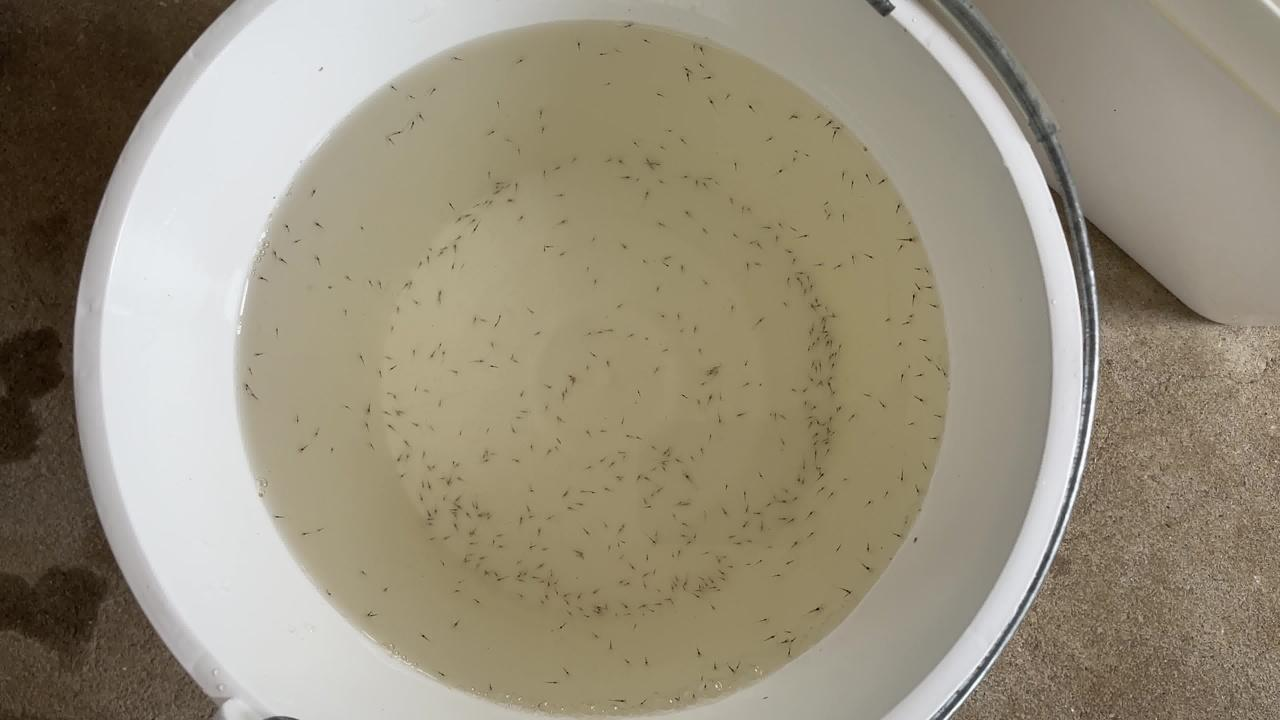shrimp: (809, 368, 822, 376), (824, 373, 837, 381), (815, 378, 828, 386), (811, 445, 824, 453), (772, 412, 785, 420), (915, 490, 928, 498), (800, 234, 813, 242), (745, 207, 758, 215), (725, 196, 738, 204), (690, 179, 703, 187), (640, 190, 653, 198), (621, 174, 634, 182), (652, 90, 665, 98), (709, 362, 722, 370), (708, 395, 721, 403), (704, 395, 717, 403), (713, 395, 726, 403), (714, 418, 727, 426), (704, 434, 717, 442), (652, 367, 665, 375), (556, 218, 569, 226), (515, 57, 528, 65), (513, 146, 526, 154), (462, 213, 475, 221), (411, 262, 424, 270), (431, 295, 444, 303), (487, 362, 500, 370), (484, 340, 497, 348), (563, 384, 576, 392), (383, 135, 396, 143), (392, 412, 405, 420), (521, 406, 534, 414), (507, 428, 520, 436), (393, 473, 406, 481), (631, 473, 644, 481), (616, 451, 629, 459), (596, 456, 609, 464), (774, 501, 787, 509), (765, 500, 778, 508), (736, 522, 749, 530), (744, 561, 757, 569), (761, 617, 774, 625), (670, 600, 683, 608), (595, 600, 608, 608), (642, 661, 655, 669), (731, 666, 744, 674), (560, 595, 573, 603), (448, 622, 461, 630), (438, 672, 451, 680), (450, 589, 463, 597), (452, 578, 465, 586), (434, 562, 447, 570), (423, 511, 436, 519), (463, 528, 476, 536), (462, 512, 475, 520), (442, 534, 455, 542), (586, 490, 599, 498), (576, 500, 589, 508), (521, 573, 534, 581), (361, 611, 374, 619), (361, 611, 374, 619), (380, 584, 393, 592), (270, 512, 283, 520), (238, 379, 251, 387), (242, 367, 255, 375), (340, 306, 353, 314), (598, 429, 611, 437), (682, 66, 694, 74), (682, 73, 694, 81), (698, 48, 710, 56), (686, 41, 698, 49), (699, 61, 711, 69), (703, 75, 715, 83), (704, 99, 716, 107), (722, 93, 734, 101), (747, 104, 759, 112), (783, 115, 795, 123), (788, 115, 800, 123), (810, 112, 822, 120), (826, 117, 838, 125), (834, 123, 846, 131), (828, 128, 840, 136), (859, 173, 871, 181), (879, 178, 891, 186), (849, 179, 861, 187), (838, 169, 850, 177), (773, 168, 785, 176), (762, 134, 774, 142), (787, 160, 799, 168), (803, 153, 815, 161), (790, 146, 802, 154), (822, 198, 834, 206), (816, 209, 828, 217), (823, 209, 835, 217), (836, 211, 848, 219), (893, 203, 905, 211), (909, 237, 921, 245), (897, 242, 909, 250), (913, 268, 925, 276), (922, 269, 934, 277), (912, 286, 924, 294), (927, 283, 939, 291), (907, 294, 919, 302), (932, 303, 944, 311), (907, 311, 919, 319), (903, 319, 915, 327), (882, 318, 894, 326), (895, 340, 907, 348), (923, 337, 935, 345), (925, 355, 937, 363), (932, 367, 944, 375), (942, 374, 954, 382), (915, 374, 927, 382), (897, 371, 909, 379), (919, 398, 931, 406), (936, 413, 948, 421), (932, 435, 944, 443), (911, 418, 923, 426), (878, 403, 890, 411), (865, 393, 877, 401), (866, 255, 878, 263), (850, 252, 862, 260), (832, 263, 844, 271), (795, 268, 807, 276), (801, 276, 813, 284), (793, 277, 805, 285), (809, 284, 821, 292), (798, 290, 810, 298), (783, 277, 795, 285), (811, 295, 823, 303), (813, 301, 825, 309), (806, 303, 818, 311), (829, 314, 841, 322), (830, 314, 842, 322), (817, 313, 829, 321), (820, 323, 832, 331), (828, 340, 840, 348), (684, 207, 696, 215), (629, 141, 641, 149), (695, 345, 707, 353), (651, 285, 663, 293), (779, 439, 791, 447), (490, 185, 502, 193), (418, 113, 430, 121), (418, 451, 430, 459), (424, 467, 436, 475), (540, 450, 552, 458), (679, 500, 691, 508), (718, 578, 730, 586), (779, 639, 791, 647), (651, 573, 663, 581), (640, 583, 652, 591), (623, 661, 635, 669), (562, 672, 574, 680), (590, 634, 602, 642), (613, 578, 625, 586), (540, 595, 552, 603), (529, 573, 541, 581), (480, 556, 492, 564), (424, 517, 436, 525), (313, 429, 325, 437), (269, 251, 281, 259), (810, 326, 823, 333), (803, 329, 816, 336), (819, 340, 832, 347), (822, 334, 835, 341), (812, 335, 825, 342), (806, 340, 819, 347), (806, 344, 819, 351), (804, 359, 817, 366), (815, 361, 828, 368), (821, 353, 834, 360), (827, 352, 840, 359), (824, 384, 837, 391), (836, 406, 849, 413), (802, 388, 815, 395), (807, 405, 820, 412), (801, 413, 814, 420), (813, 419, 826, 426), (804, 422, 817, 429), (821, 425, 834, 432), (823, 427, 836, 434), (822, 436, 835, 443), (822, 441, 835, 448), (848, 414, 861, 421), (812, 465, 825, 472), (816, 470, 829, 477), (753, 318, 766, 325), (781, 415, 794, 422), (797, 465, 810, 472), (791, 476, 804, 483), (800, 481, 813, 488), (815, 488, 828, 495), (826, 492, 839, 499), (739, 362, 752, 369), (921, 465, 934, 472), (895, 477, 908, 484), (881, 494, 894, 501), (866, 500, 879, 507), (894, 533, 907, 540), (897, 522, 910, 529), (786, 228, 799, 235), (776, 222, 789, 229), (758, 225, 771, 232), (770, 237, 783, 244), (784, 251, 797, 258), (754, 242, 767, 249), (746, 240, 759, 247), (753, 262, 766, 269), (743, 261, 756, 268), (738, 204, 751, 211), (729, 161, 742, 168), (704, 175, 717, 182), (699, 182, 712, 189), (651, 161, 664, 168), (641, 161, 654, 168), (699, 228, 712, 235), (655, 219, 668, 226), (677, 139, 690, 146), (664, 125, 677, 132), (603, 157, 616, 164), (611, 158, 624, 165), (627, 24, 640, 31), (593, 52, 606, 59), (604, 79, 617, 86), (730, 232, 743, 239), (655, 179, 668, 186), (728, 303, 741, 310), (664, 252, 677, 259), (661, 264, 674, 271), (674, 264, 687, 271), (690, 324, 703, 331), (672, 311, 685, 318), (699, 281, 712, 288), (704, 371, 717, 378), (710, 371, 723, 378), (696, 380, 709, 387), (677, 394, 690, 401), (733, 412, 746, 419), (692, 400, 705, 407), (659, 347, 672, 354), (619, 245, 632, 252), (615, 301, 628, 308), (590, 279, 603, 286), (584, 266, 597, 273), (558, 252, 571, 259), (545, 242, 558, 249), (556, 192, 569, 199), (570, 153, 583, 160), (549, 166, 562, 173), (539, 170, 552, 177), (537, 126, 550, 133), (494, 102, 507, 109), (489, 129, 502, 136), (492, 179, 505, 186), (511, 181, 524, 188), (504, 195, 517, 202), (515, 216, 528, 223), (487, 201, 500, 208), (480, 197, 493, 204), (473, 201, 486, 208), (467, 220, 480, 227), (452, 218, 465, 225), (452, 234, 465, 241), (451, 242, 464, 249), (446, 264, 459, 271), (441, 242, 454, 249), (436, 250, 449, 257), (422, 257, 435, 264), (398, 281, 411, 288), (403, 281, 416, 288), (411, 301, 424, 308), (390, 310, 403, 317), (388, 326, 401, 333), (380, 353, 393, 360), (384, 366, 397, 373), (411, 348, 424, 355), (425, 354, 438, 361), (438, 350, 451, 357), (476, 358, 489, 365), (466, 317, 479, 324), (492, 322, 505, 329), (505, 352, 518, 359), (508, 359, 521, 366), (526, 310, 539, 317), (529, 329, 542, 336), (583, 333, 596, 340), (593, 331, 606, 338), (604, 328, 617, 335), (601, 362, 614, 369), (590, 351, 603, 358), (558, 392, 571, 399), (543, 386, 556, 393), (513, 391, 526, 398), (626, 331, 639, 338), (448, 57, 461, 64), (427, 88, 440, 95), (393, 129, 406, 136), (388, 85, 401, 92), (385, 389, 398, 396), (381, 408, 394, 415), (419, 385, 432, 392), (434, 401, 447, 408), (484, 428, 497, 435), (454, 428, 467, 435), (425, 427, 438, 434), (412, 423, 425, 430), (385, 425, 398, 432), (399, 437, 412, 444), (392, 458, 405, 465), (403, 456, 416, 463), (417, 497, 430, 504), (438, 474, 451, 481), (441, 481, 454, 488), (453, 475, 466, 482), (451, 461, 464, 468), (481, 457, 494, 464), (513, 459, 526, 466), (525, 442, 538, 449), (543, 404, 556, 411), (554, 417, 567, 424), (553, 436, 566, 443), (554, 446, 567, 453), (622, 433, 635, 440), (630, 435, 643, 442), (617, 421, 630, 428), (648, 446, 661, 453), (657, 448, 670, 455), (661, 454, 674, 461), (699, 446, 712, 453), (688, 453, 701, 460), (670, 457, 683, 464), (660, 467, 673, 474), (644, 474, 657, 481), (620, 459, 633, 466), (607, 460, 620, 467), (582, 466, 595, 473), (614, 472, 627, 479), (654, 487, 667, 494), (647, 491, 660, 498), (640, 497, 653, 504), (644, 502, 657, 509), (753, 470, 766, 477), (719, 510, 732, 517), (742, 504, 755, 511), (755, 510, 768, 517), (759, 524, 772, 531), (809, 510, 822, 517), (787, 519, 800, 526), (779, 514, 792, 521), (863, 567, 876, 574), (832, 546, 845, 553), (844, 587, 857, 594), (844, 589, 857, 596), (813, 606, 826, 613), (809, 530, 822, 537), (790, 541, 803, 548), (785, 558, 798, 565), (749, 539, 762, 546), (726, 533, 739, 540), (734, 541, 747, 548), (726, 566, 739, 573), (719, 570, 732, 577), (714, 557, 727, 564), (714, 589, 727, 596), (689, 598, 702, 605), (691, 590, 704, 597), (697, 577, 710, 584), (680, 579, 693, 586), (786, 639, 799, 646), (785, 647, 798, 654), (664, 587, 677, 594), (669, 583, 682, 590), (670, 576, 683, 583), (665, 551, 678, 558), (671, 550, 684, 557), (679, 545, 692, 552), (690, 536, 703, 543), (678, 521, 691, 528), (647, 539, 660, 546), (639, 571, 652, 578), (655, 601, 668, 608), (646, 610, 659, 617), (636, 602, 649, 609), (621, 605, 634, 612), (595, 606, 608, 613), (591, 610, 604, 617), (604, 644, 617, 651), (691, 651, 704, 658), (709, 666, 722, 673), (723, 668, 736, 675), (616, 696, 629, 703), (548, 681, 561, 688), (554, 624, 567, 631), (631, 626, 644, 633), (582, 616, 595, 623), (576, 608, 589, 615), (574, 593, 587, 600), (560, 600, 573, 607), (589, 589, 602, 596), (620, 583, 633, 590), (626, 564, 639, 571), (616, 555, 629, 562), (619, 540, 632, 547), (617, 525, 630, 532), (600, 545, 613, 552), (580, 532, 593, 539), (576, 553, 589, 560), (552, 580, 565, 587), (542, 579, 555, 586), (534, 563, 547, 570), (514, 593, 527, 600), (487, 684, 500, 691), (417, 632, 430, 639), (492, 580, 505, 587), (492, 572, 505, 579), (481, 571, 494, 578), (457, 559, 470, 566), (461, 559, 474, 566), (470, 563, 483, 570), (426, 538, 439, 545), (423, 525, 436, 532), (428, 506, 441, 513), (452, 492, 465, 499), (453, 504, 466, 511), (447, 508, 460, 515), (449, 518, 462, 525), (485, 511, 498, 518), (469, 504, 482, 511), (463, 542, 476, 549), (497, 531, 510, 538), (488, 539, 501, 546), (526, 489, 539, 496), (574, 488, 587, 495), (558, 489, 571, 496), (567, 506, 580, 513), (543, 515, 556, 522), (530, 529, 543, 536), (524, 544, 537, 551), (524, 544, 537, 551), (513, 571, 526, 578), (515, 577, 528, 584), (510, 557, 523, 564), (513, 517, 526, 524), (525, 516, 538, 523), (604, 486, 617, 493), (581, 365, 594, 372), (358, 568, 371, 575), (298, 531, 311, 538), (363, 443, 376, 450), (359, 423, 372, 430), (361, 407, 374, 414), (254, 351, 267, 358), (270, 326, 283, 333), (290, 416, 303, 423), (355, 355, 368, 362), (377, 280, 390, 287), (365, 280, 378, 287), (341, 275, 354, 282), (308, 255, 321, 262), (309, 219, 322, 226), (290, 239, 303, 246), (282, 223, 295, 230), (256, 277, 269, 284), (323, 283, 336, 290), (677, 176, 690, 183), (585, 237, 598, 244), (633, 392, 646, 399), (599, 524, 612, 531), (641, 554, 654, 561), (341, 403, 354, 410), (313, 526, 326, 533), (782, 301, 795, 308), (323, 590, 336, 597), (828, 364, 840, 371), (828, 414, 840, 421), (812, 434, 824, 441), (740, 382, 752, 389), (861, 549, 873, 556), (817, 265, 829, 272), (789, 261, 801, 268), (573, 41, 585, 48), (640, 37, 652, 44), (789, 386, 801, 393), (541, 248, 553, 255), (535, 109, 547, 116), (507, 139, 519, 146), (485, 171, 497, 178), (468, 228, 480, 235), (446, 201, 458, 208), (374, 372, 386, 379), (452, 373, 464, 380), (568, 377, 580, 384), (408, 122, 420, 129), (407, 93, 419, 100), (408, 387, 420, 394), (397, 410, 409, 417), (518, 413, 530, 420), (418, 487, 430, 494), (424, 487, 436, 494), (585, 431, 597, 438), (685, 476, 697, 483), (613, 477, 625, 484), (740, 489, 752, 496), (789, 496, 801, 503), (778, 570, 790, 577), (756, 560, 768, 567), (707, 576, 719, 583), (707, 582, 719, 589), (679, 588, 691, 595), (706, 601, 718, 608), (768, 635, 780, 642), (662, 596, 674, 603), (679, 534, 691, 541), (563, 612, 575, 619), (613, 546, 625, 553), (551, 590, 563, 597), (474, 600, 486, 607), (474, 515, 486, 522), (496, 549, 508, 556), (540, 547, 552, 554), (524, 509, 536, 516), (668, 513, 680, 520), (297, 449, 309, 456), (247, 393, 259, 400), (308, 189, 320, 196), (280, 260, 292, 267), (657, 144, 669, 151), (640, 258, 652, 265), (635, 699, 647, 706)
